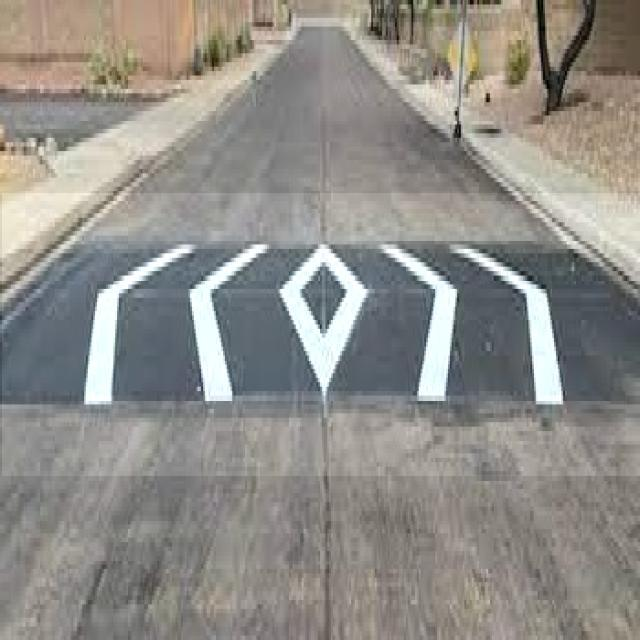speed-bump: (2, 193, 640, 476)
